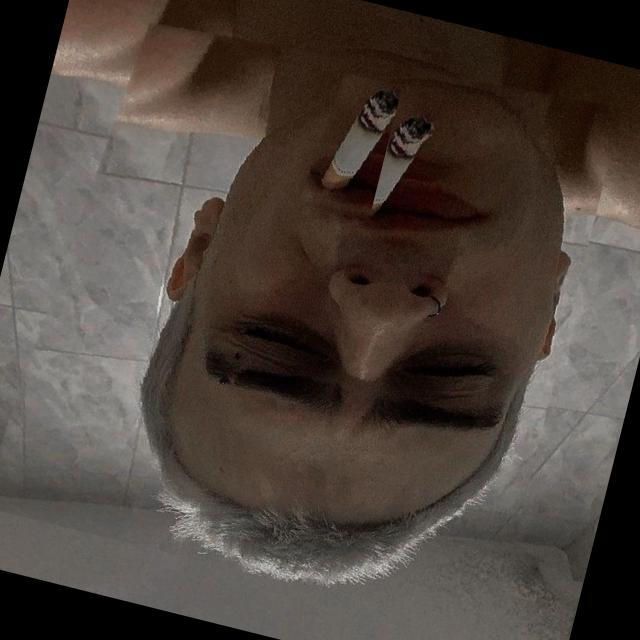cigarette: (300, 70, 402, 224)
